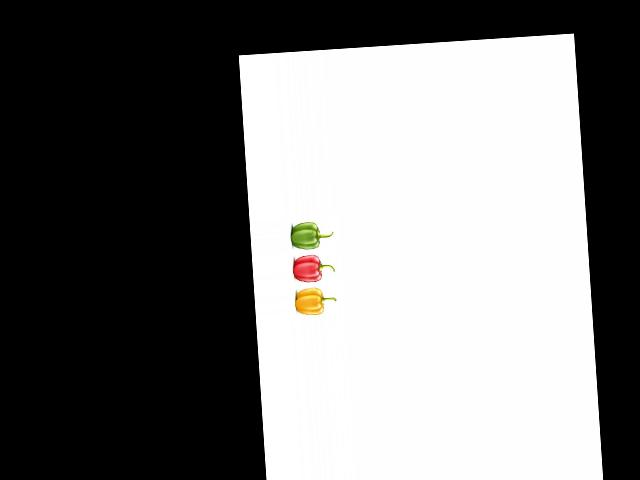bell_pepper: (287, 217, 334, 250)
